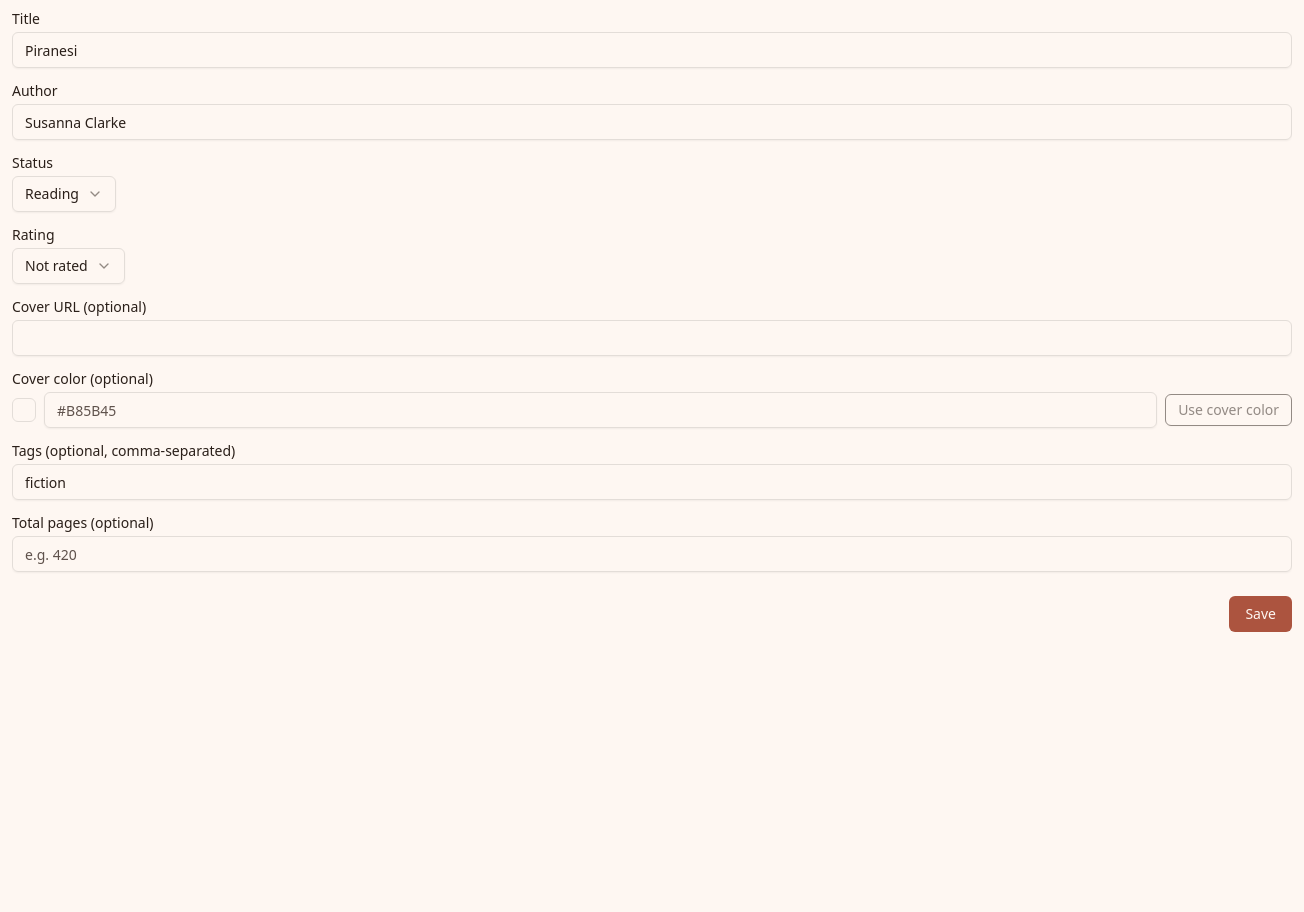
BookForm › cover color field (spec 013) › rejects a malformed coverColor with an inline error and keeps the form open
The width and height of the screenshot is (1304, 912).
Type "not-a-color" into the field labelled "Cover color (optional)" at (601, 410), box [44,392,1157,428]
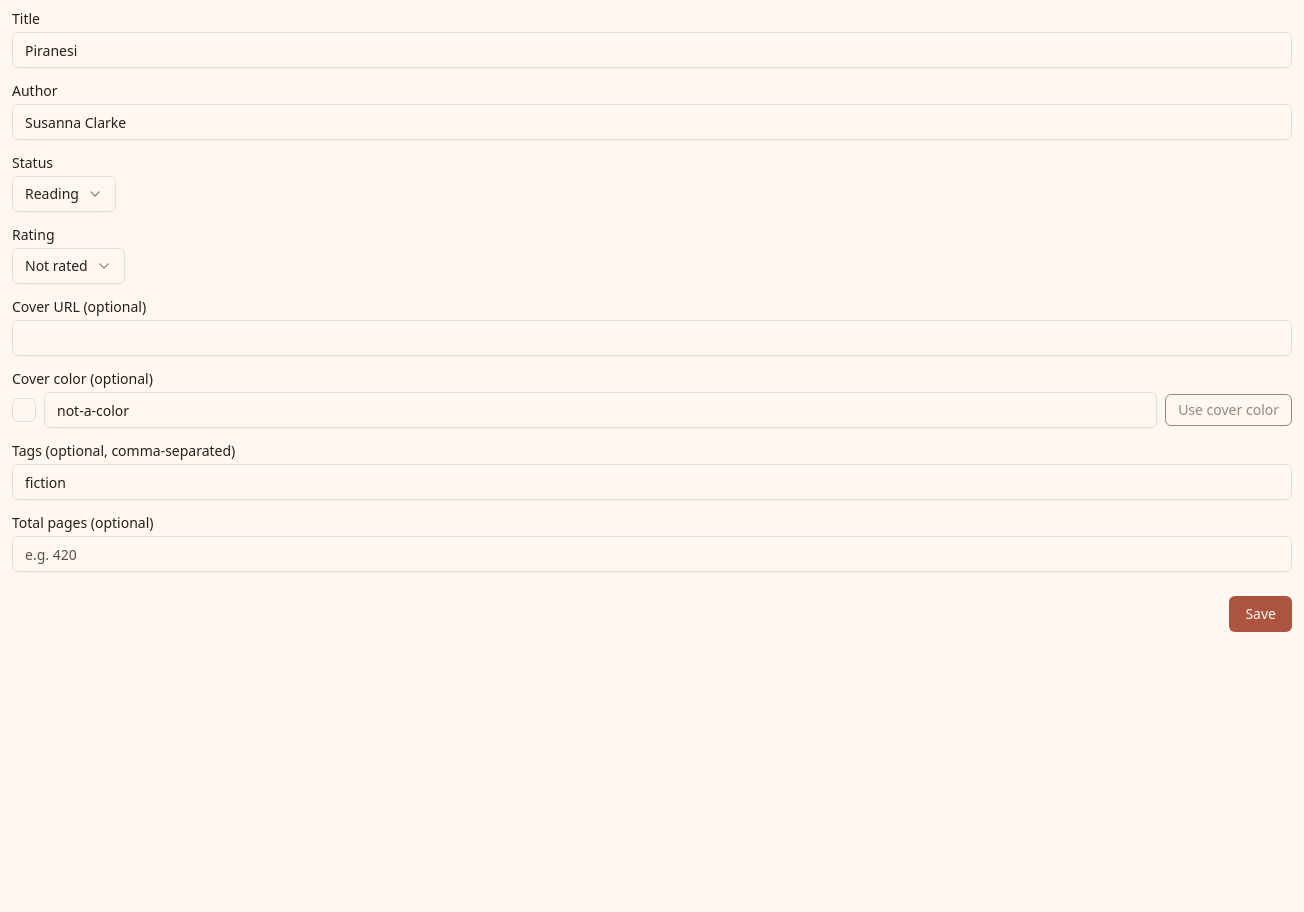
Click the button "Save" at (1261, 614), box [1229,596,1292,632]
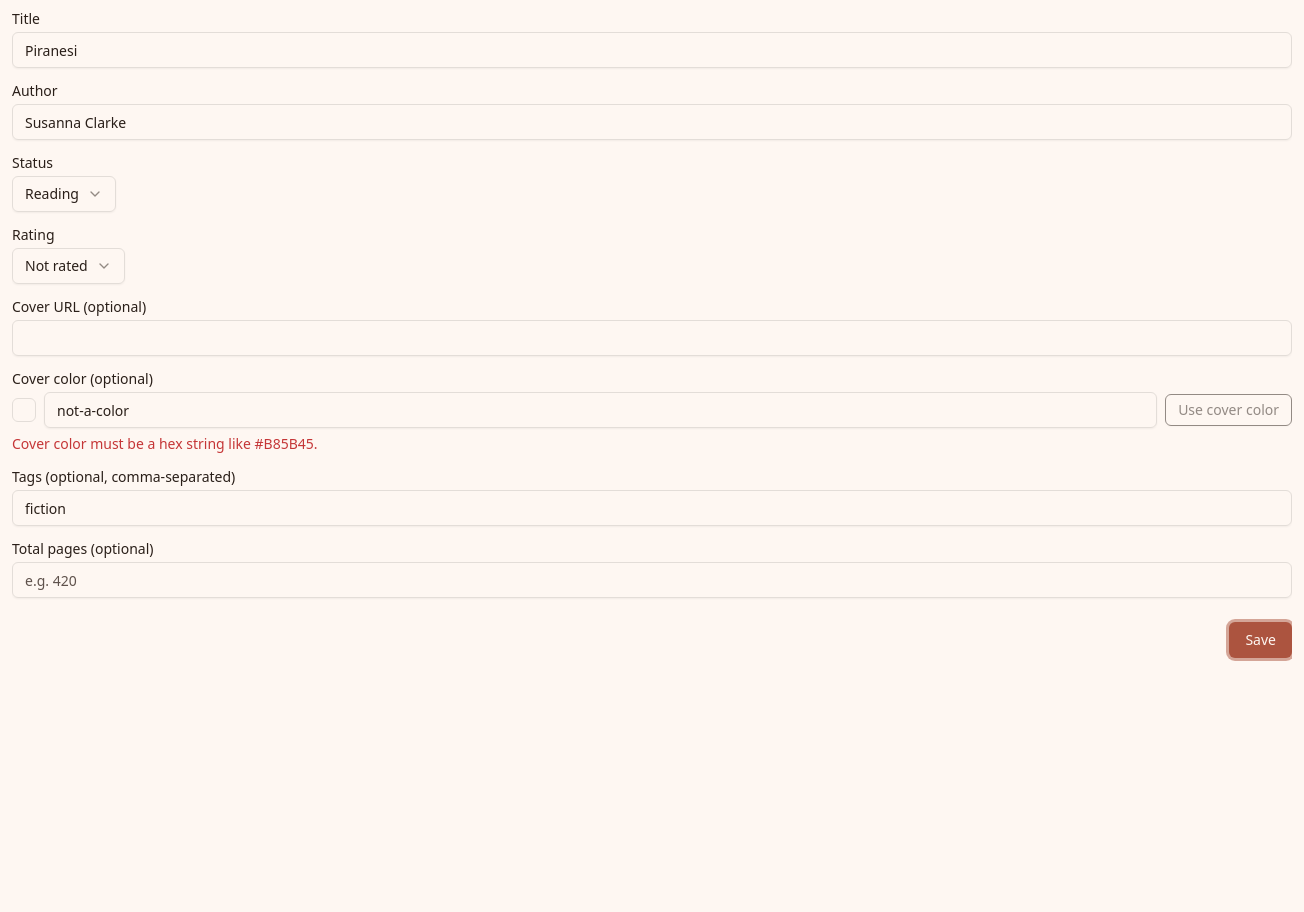
Result: the text with test id "book-form-cover-color-error" shows "hex" at [12,434,318,453]
